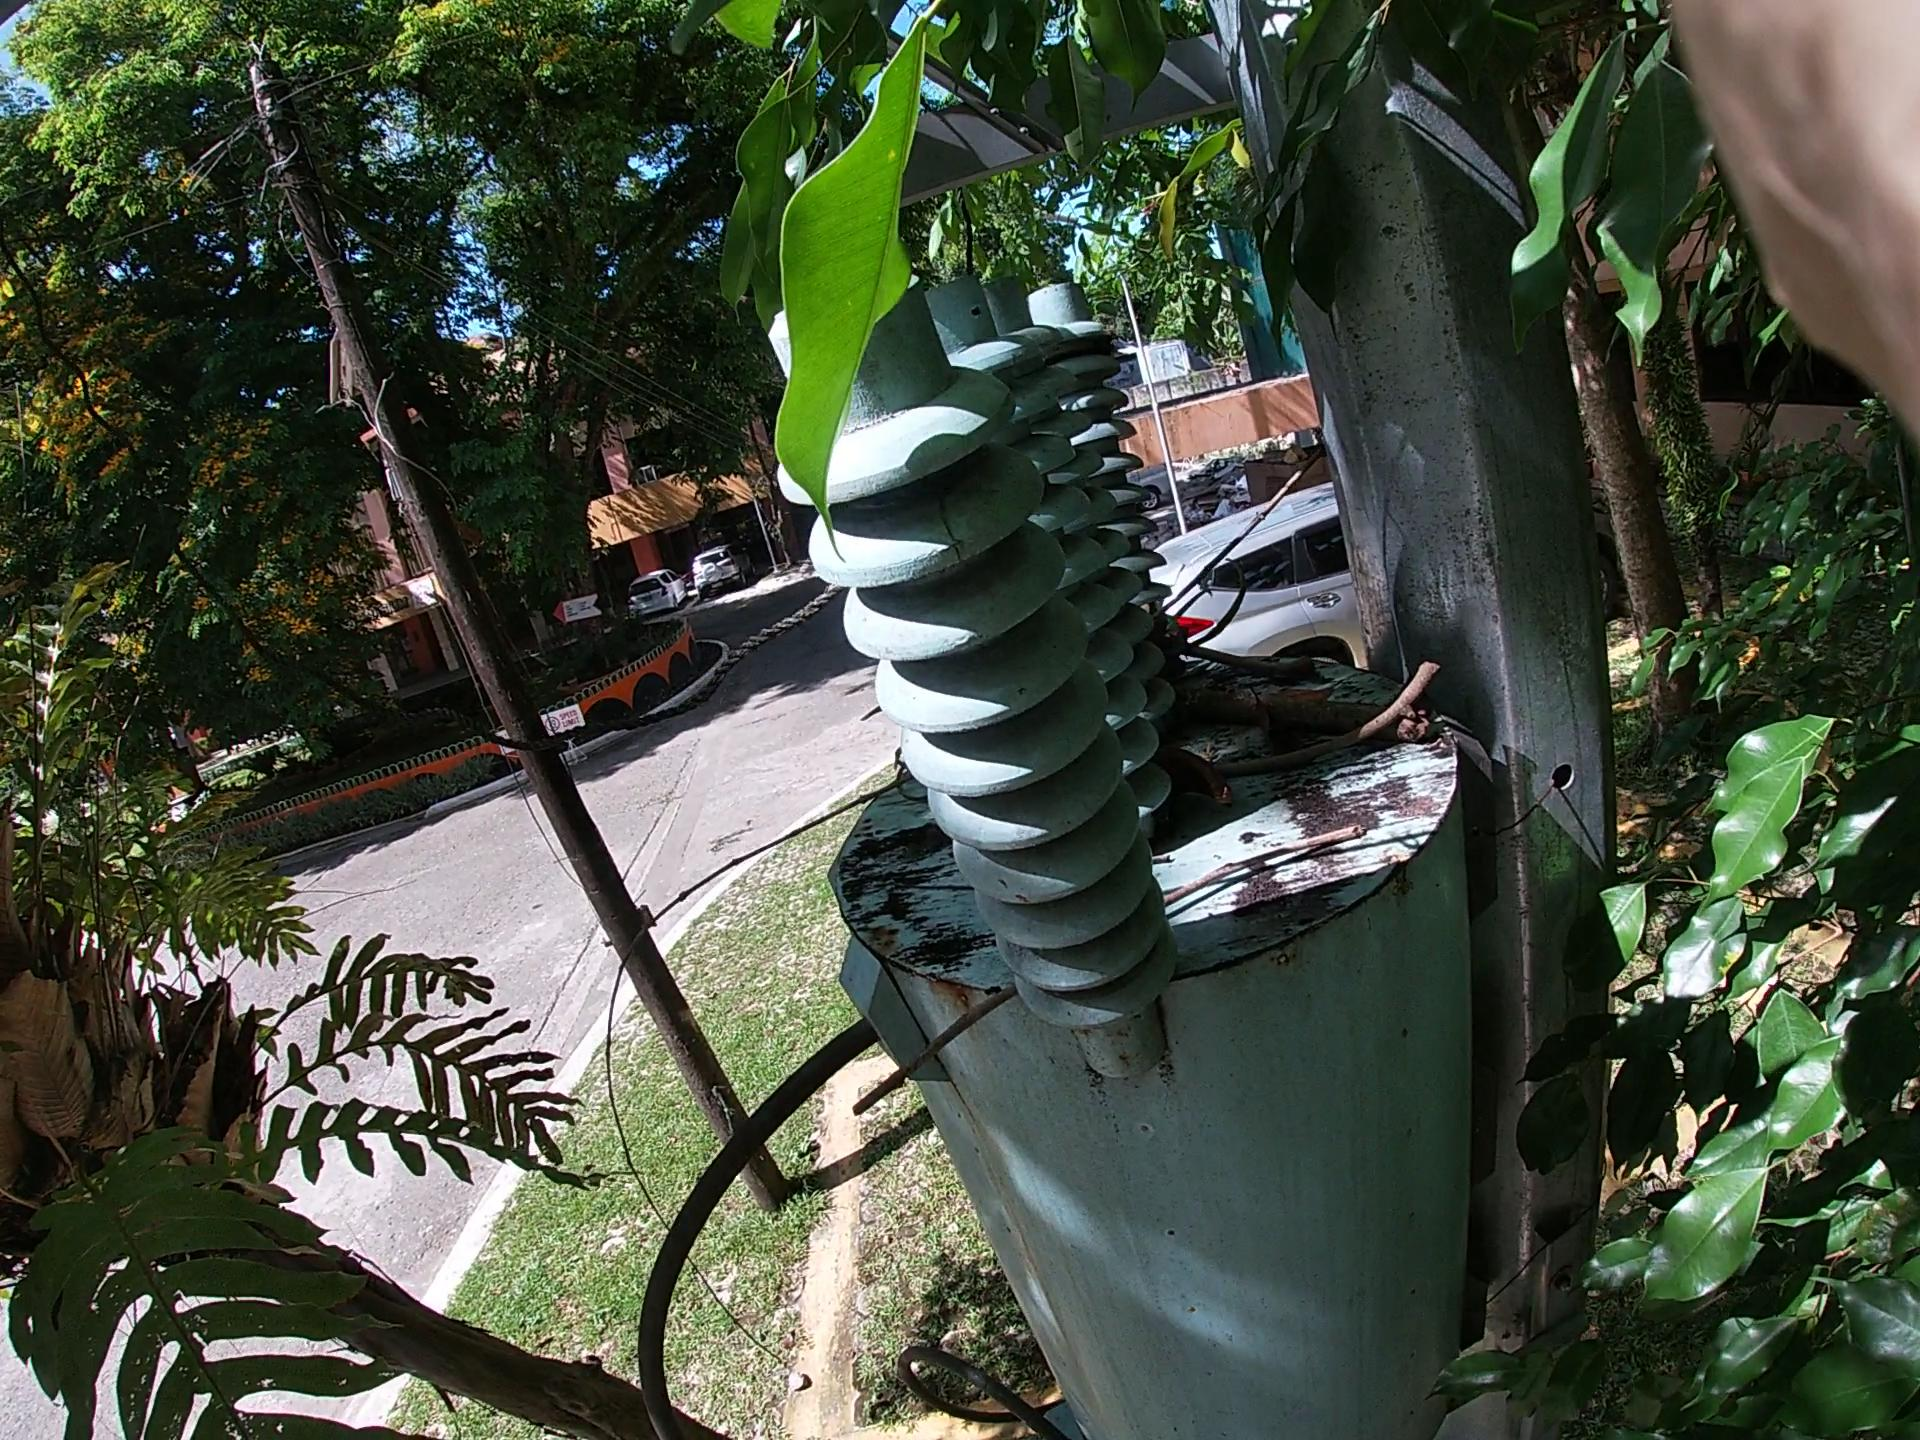mahogany fruit: (1166, 637, 1297, 759)
tree branch: (608, 452, 1285, 1095), (831, 839, 1373, 1162), (1104, 673, 1430, 873), (1169, 664, 1513, 768)
